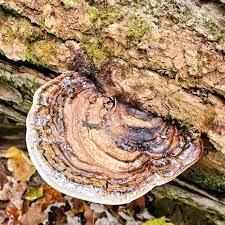Ganoderma - Fruit Body: (25, 71, 202, 207)
